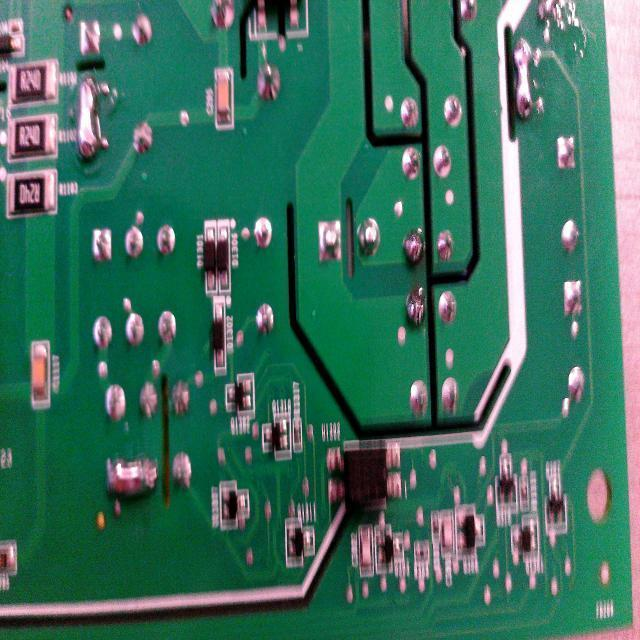Soldering shorted: (102, 452, 162, 509), (75, 73, 106, 177), (510, 38, 540, 128)
